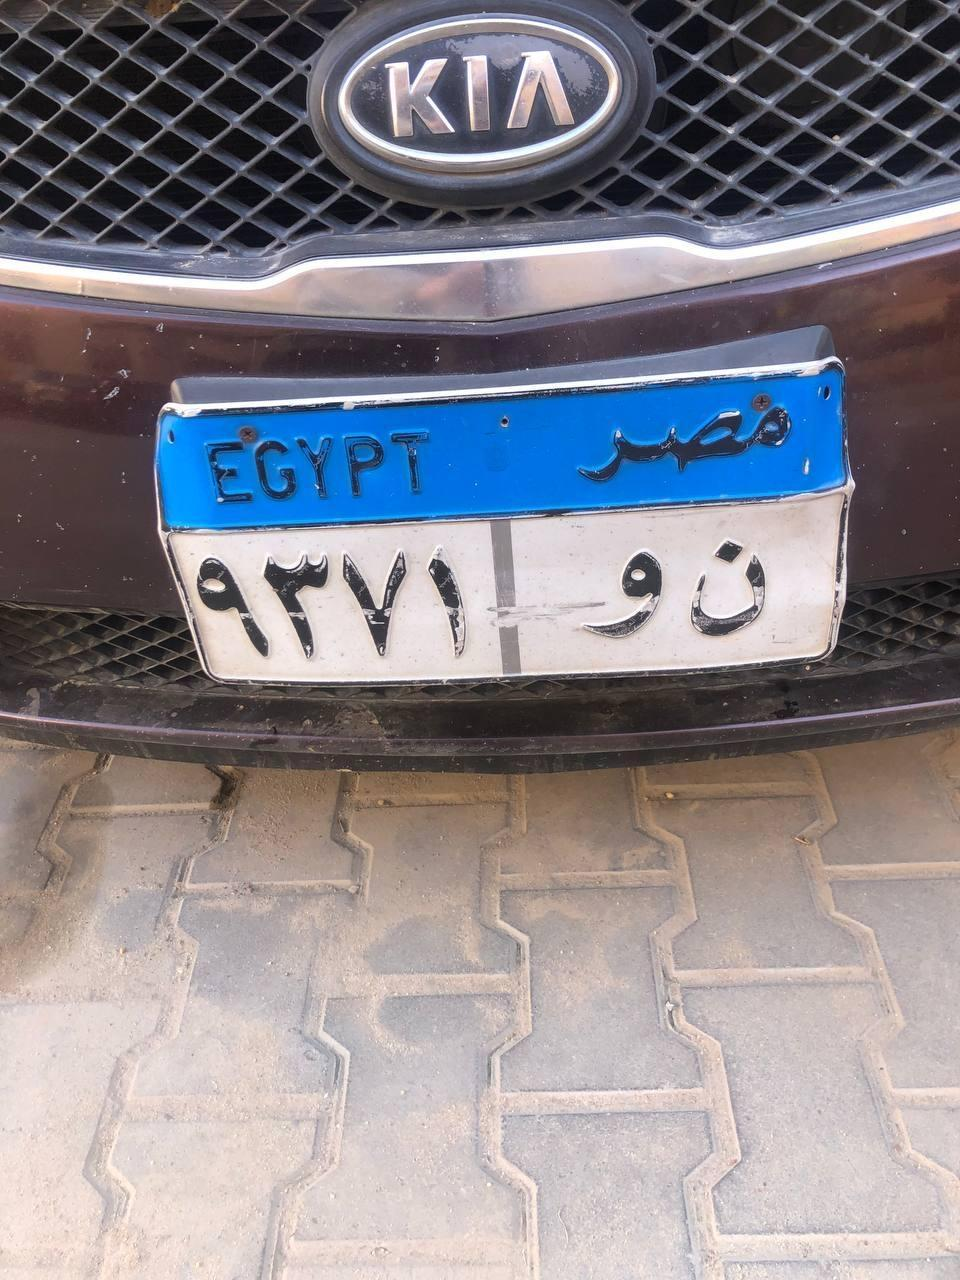1: (420, 546, 471, 664)
3: (253, 546, 338, 660)
7: (337, 536, 417, 664)
9: (184, 552, 270, 661)
License Plate: (151, 323, 856, 689)
Wow: (684, 534, 786, 640), (572, 548, 668, 644)
